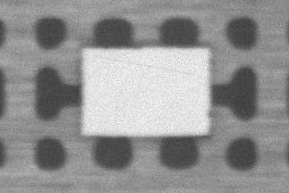DIE_CRACK: (141, 37, 289, 50)
